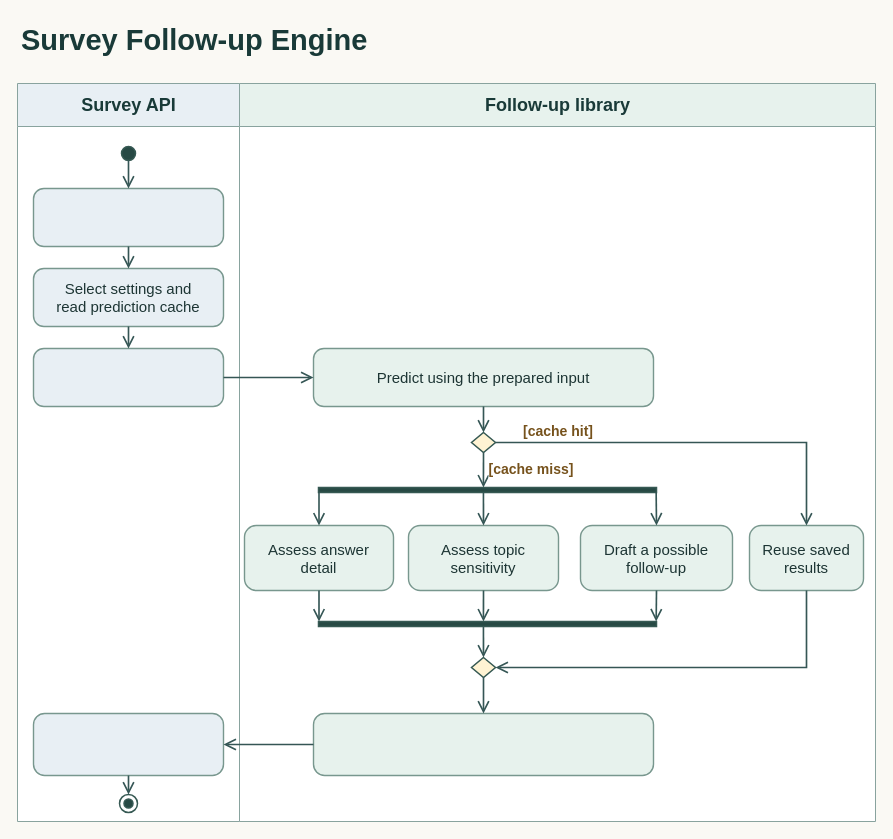
The diagram is 893 pixels wide and 839 high, and some of its shapes have lost their labels. Each missing label, with the centre of its shape:
Apply both follow-up rules Keep or withhold the question.: point 483,744
Cache if needed, log, and return decision: point 128,744
Prepare any media and build library input: point 128,377
Receive question and survey answer: point 128,217
